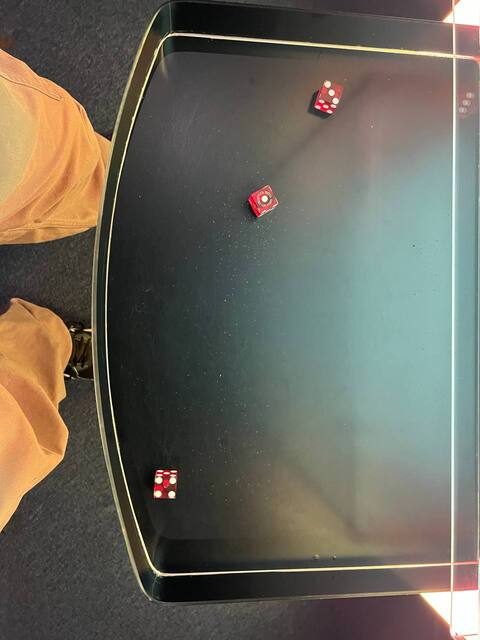four: (148, 473, 181, 504)
one: (248, 185, 281, 213)
three: (316, 78, 346, 107)
